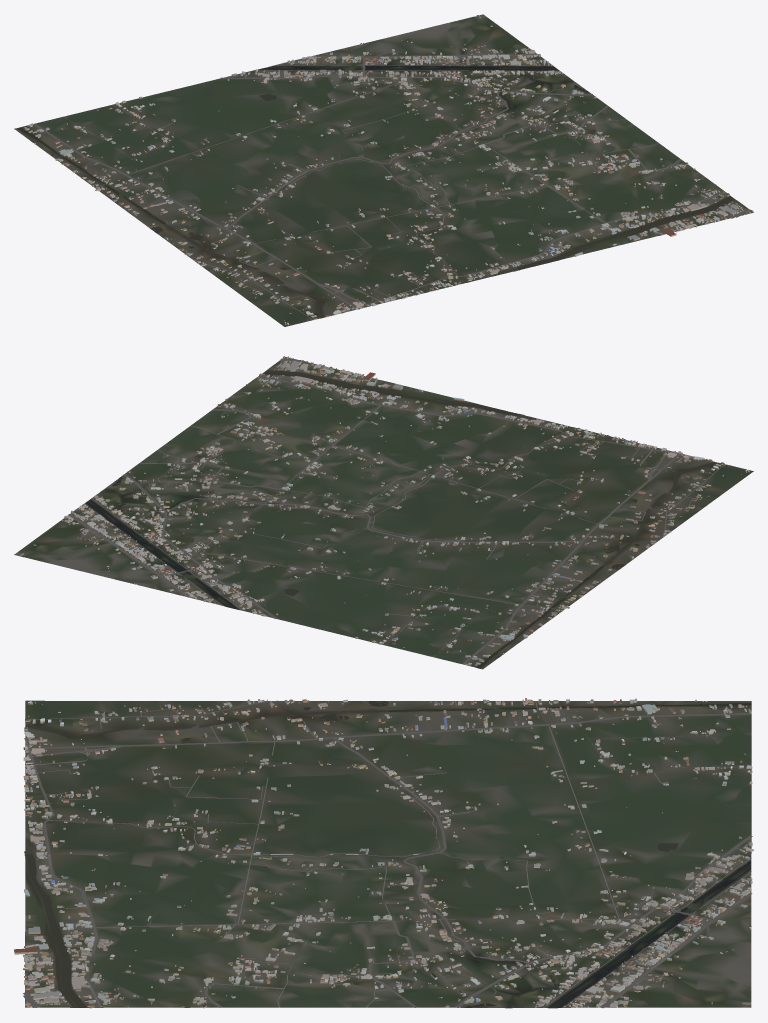
The picture shows the model from 3 angles, top to bottom: view 1: azimuth 30°, elevation 25°; view 2: azimuth 150°, elevation 25°; view 3: azimuth 270°, elevation 25°; orthographic projection. The views are drawn at different scales.
Visible parts, largest first — view 1: ground, buildings, roads, water; view 2: ground, buildings, roads, water; view 3: ground, buildings, roads, water.
Part boxes in pixels (x1,y1,x2,y2): ground: [14, 14, 753, 326]; buildings: [24, 15, 753, 325]; roads: [33, 48, 751, 320]; water: [17, 65, 735, 317]; ground: [14, 356, 753, 669]; buildings: [19, 356, 749, 665]; roads: [68, 357, 725, 664]; water: [86, 370, 716, 668]; ground: [25, 700, 751, 1008]; buildings: [14, 698, 753, 1008]; roads: [23, 700, 752, 1008]; water: [24, 701, 751, 1007].
Size of the model in its own units: 2821 by 25.61 by 2854.
